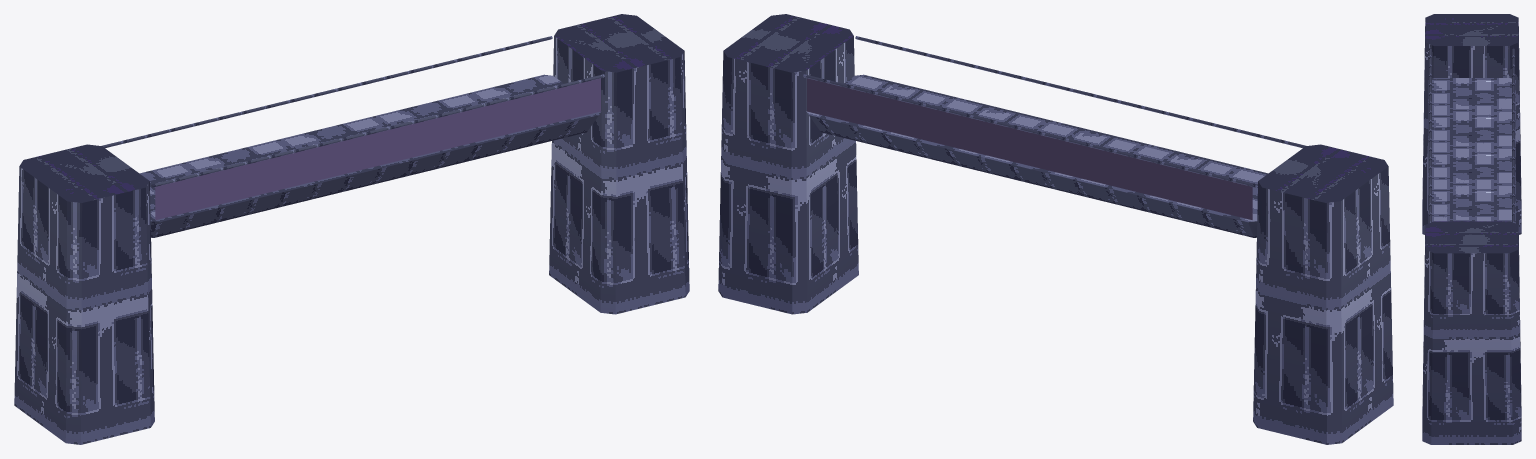
The model's file is cystreet.bridge.glb.
3 views of the same model, side by side, from view 1: azimuth 30°, elevation 25°; view 2: azimuth 150°, elevation 25°; view 3: azimuth 270°, elevation 25° (orthographic). The views are drawn at different scales.
Parts seen in each view (by area): view 1: kit_deck, kit_card_glass; view 2: kit_deck, kit_card_glass; view 3: kit_deck.
Boxes of the visible parts, x1,y1,x2,y2 form: kit_deck: (14, 14, 689, 444); kit_card_glass: (155, 78, 600, 219); kit_deck: (718, 14, 1393, 444); kit_card_glass: (807, 78, 1252, 219); kit_deck: (1422, 14, 1521, 444).
Size of the model in its own units: 19.6 by 7.2 by 3.4.
7 materials, 6 textured.
